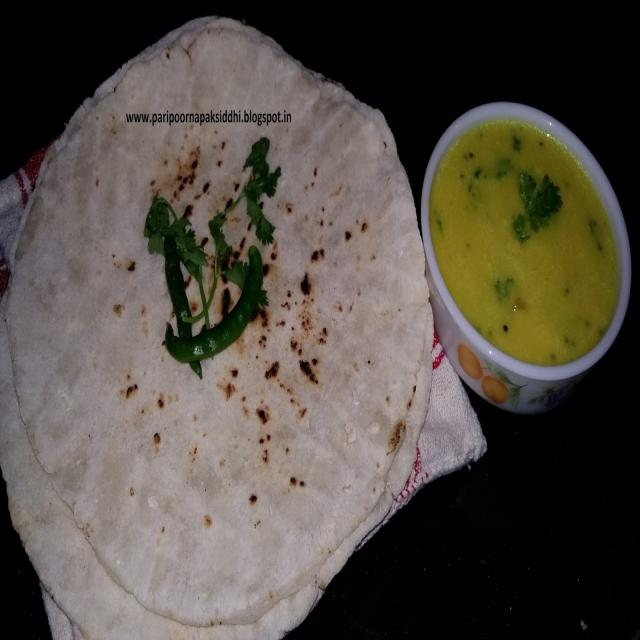RICE BHAKRI: (2, 17, 433, 639)
